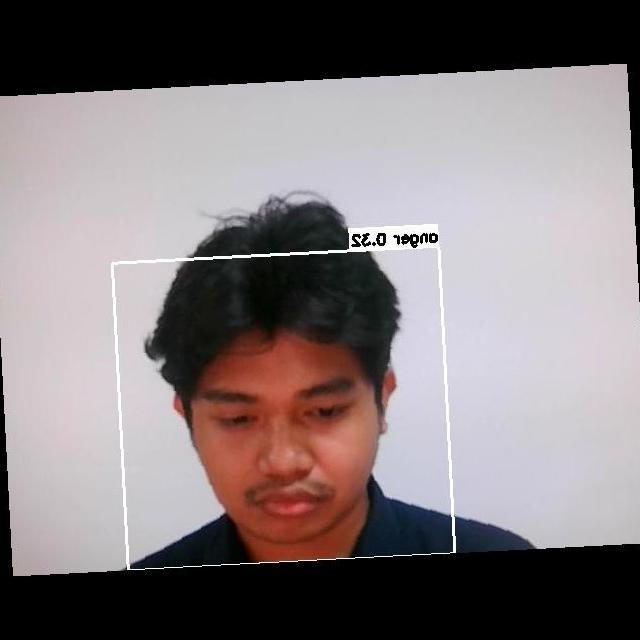Natural: (183, 356, 365, 517)
